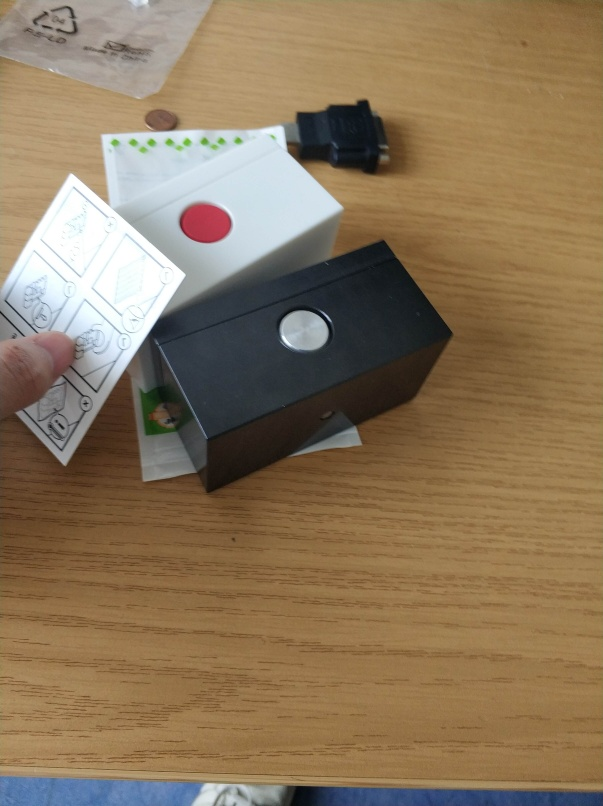black+black+silver: (141, 238, 456, 497)
white+white+red: (92, 129, 351, 317)
